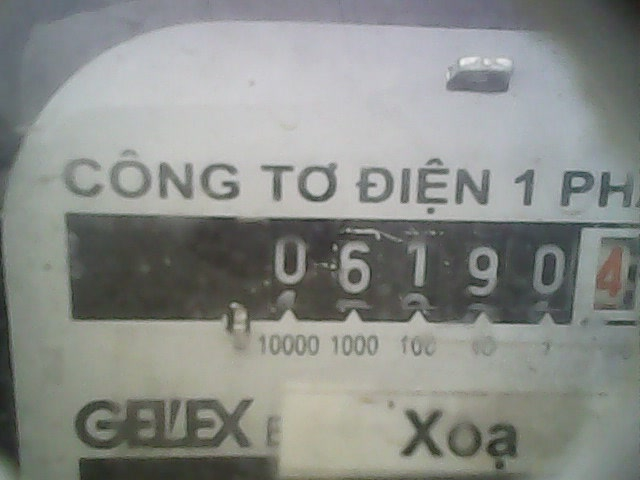phy_plate: (251, 211, 640, 332)
